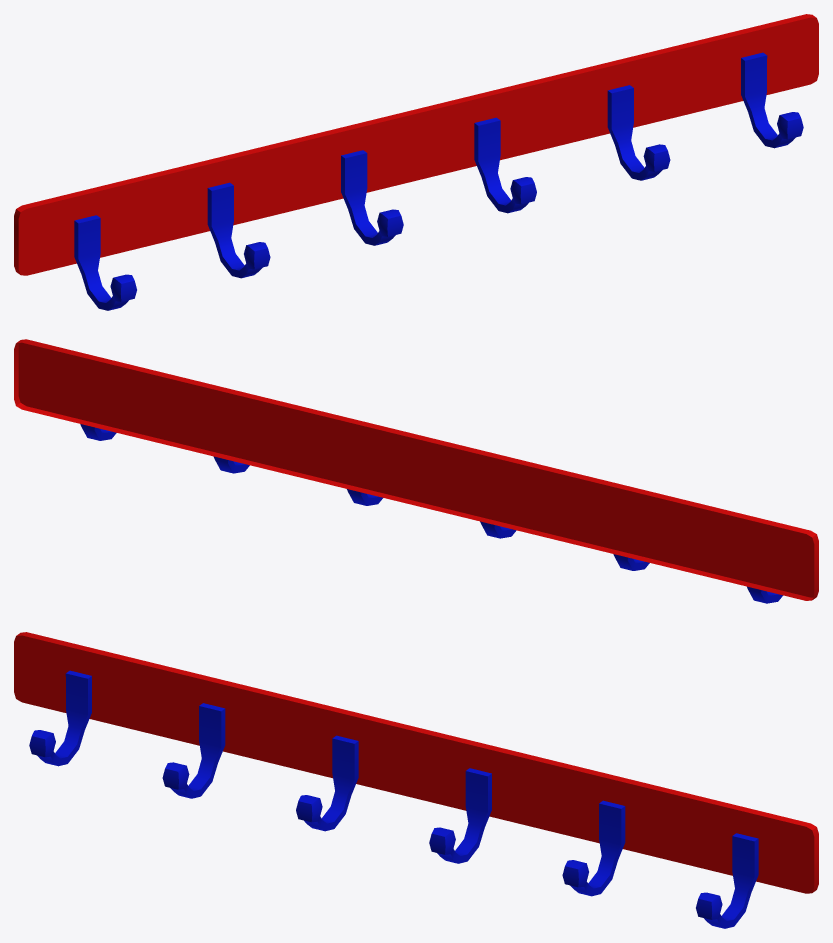
Rendered from wall_hook.FBX.
3 views of the same model, one above another, from view 1: azimuth 30°, elevation 25°; view 2: azimuth 150°, elevation 25°; view 3: azimuth 330°, elevation 25° (orthographic).
Visible parts, largest first — view 1: Box001; view 2: Box001; view 3: Box001.
Boxes of the visible parts, x1,y1,x2,y2 form: Box001: (14, 14, 818, 310); Box001: (14, 339, 818, 603); Box001: (14, 632, 818, 928).
Bounding box in the file's own units: 1 × 0.104 × 0.1173.
